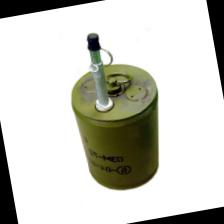OZM-72: (58, 50, 174, 200)
